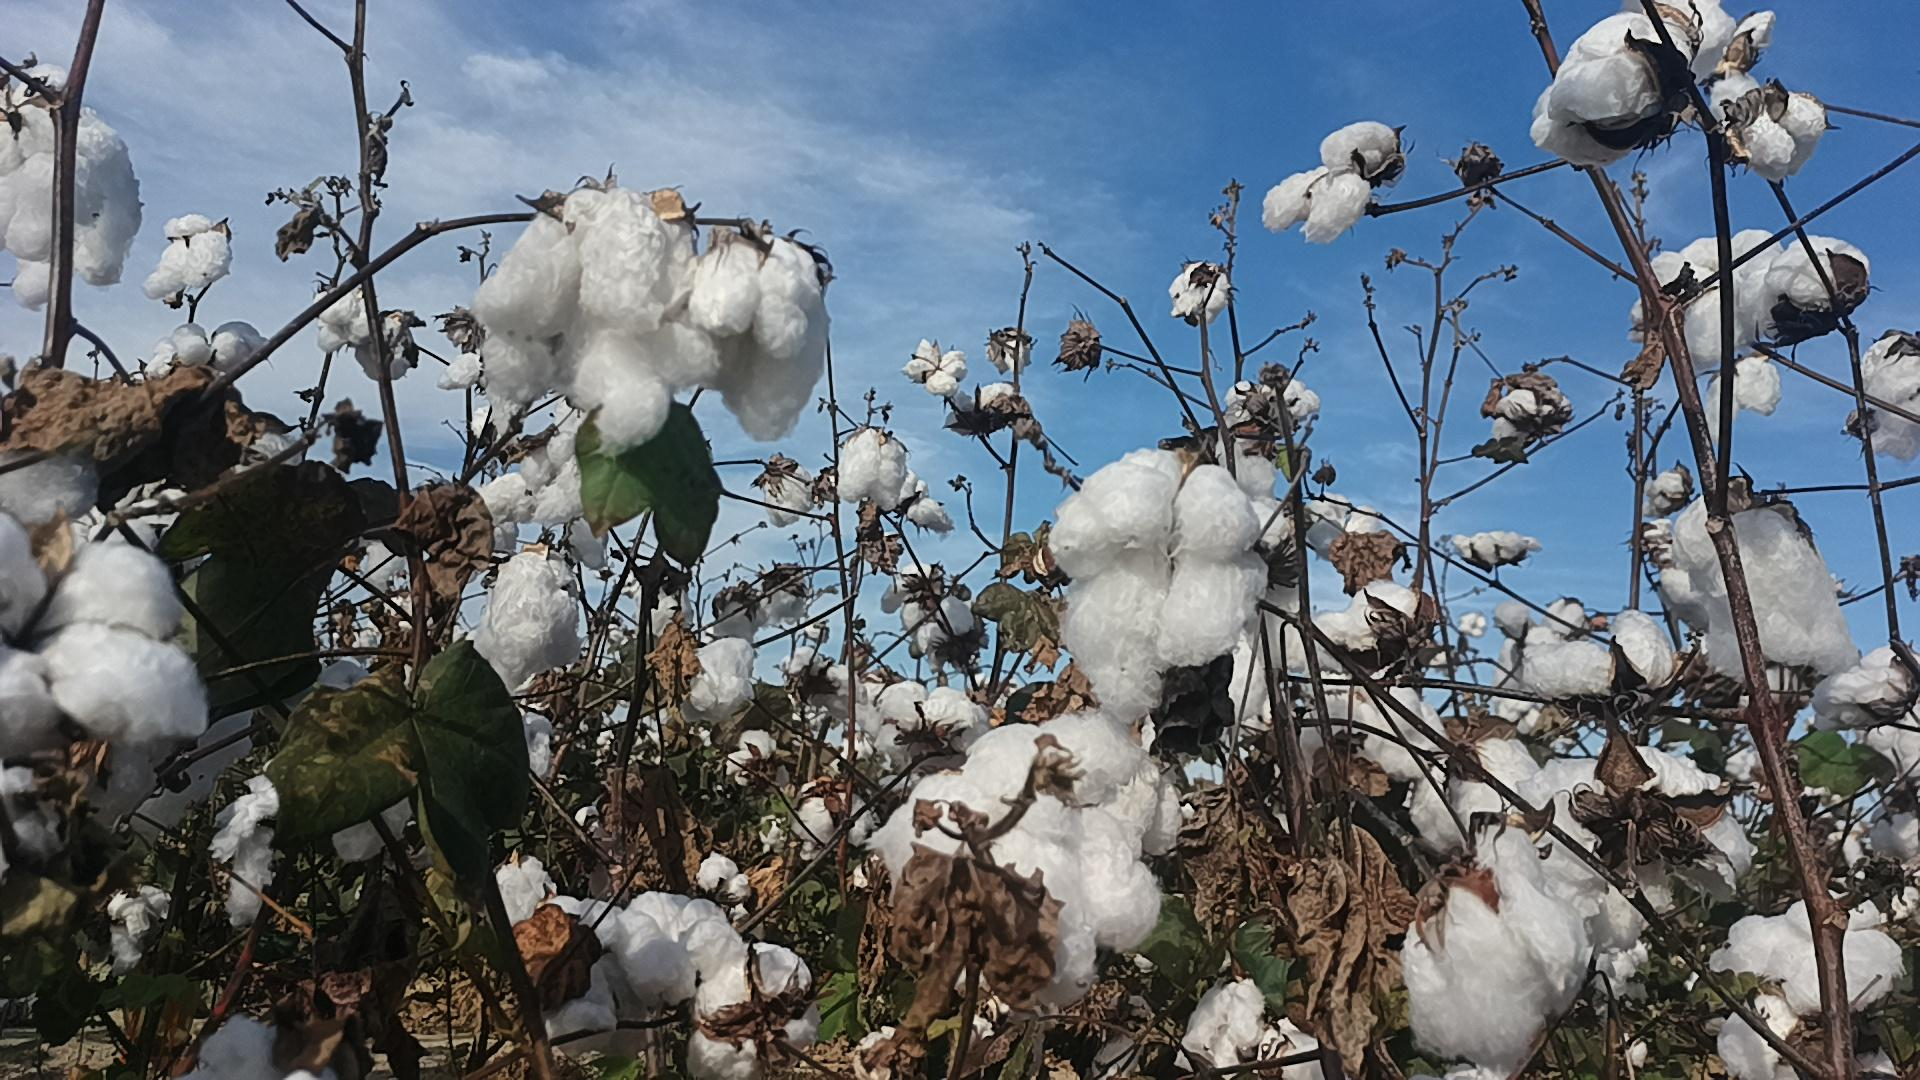cotton_ready: (876, 720, 1183, 989), (473, 195, 720, 455), (1054, 455, 1269, 721), (0, 516, 214, 737), (1547, 753, 1754, 951), (1709, 898, 1908, 1080), (1399, 876, 1588, 1064), (0, 71, 138, 310), (1677, 491, 1854, 675), (690, 240, 836, 439), (1216, 423, 1311, 711), (1672, 0, 1830, 170), (83, 694, 264, 837), (1532, 11, 1680, 160), (530, 898, 642, 1068), (1414, 736, 1548, 861), (1172, 976, 1331, 1080), (1262, 117, 1393, 241), (692, 945, 811, 1080), (476, 549, 588, 691), (1503, 613, 1683, 702), (1651, 231, 1767, 359), (618, 893, 731, 994), (1316, 679, 1437, 773), (1767, 233, 1869, 343), (211, 775, 281, 924), (481, 426, 585, 524), (1305, 585, 1428, 663), (873, 686, 988, 767), (183, 1015, 326, 1080), (884, 563, 978, 657), (0, 762, 73, 874), (0, 451, 100, 529), (1866, 727, 1920, 865), (145, 214, 231, 299), (1858, 340, 1920, 458), (1815, 651, 1920, 717), (146, 320, 258, 381), (786, 645, 869, 725), (1495, 372, 1569, 455), (107, 884, 174, 975), (790, 793, 877, 862), (332, 796, 418, 862), (836, 429, 909, 506), (692, 636, 758, 713), (1307, 495, 1386, 556), (496, 857, 560, 930), (1226, 378, 1320, 426), (940, 382, 1017, 435), (902, 336, 968, 394), (356, 311, 411, 380), (1171, 266, 1233, 324)
